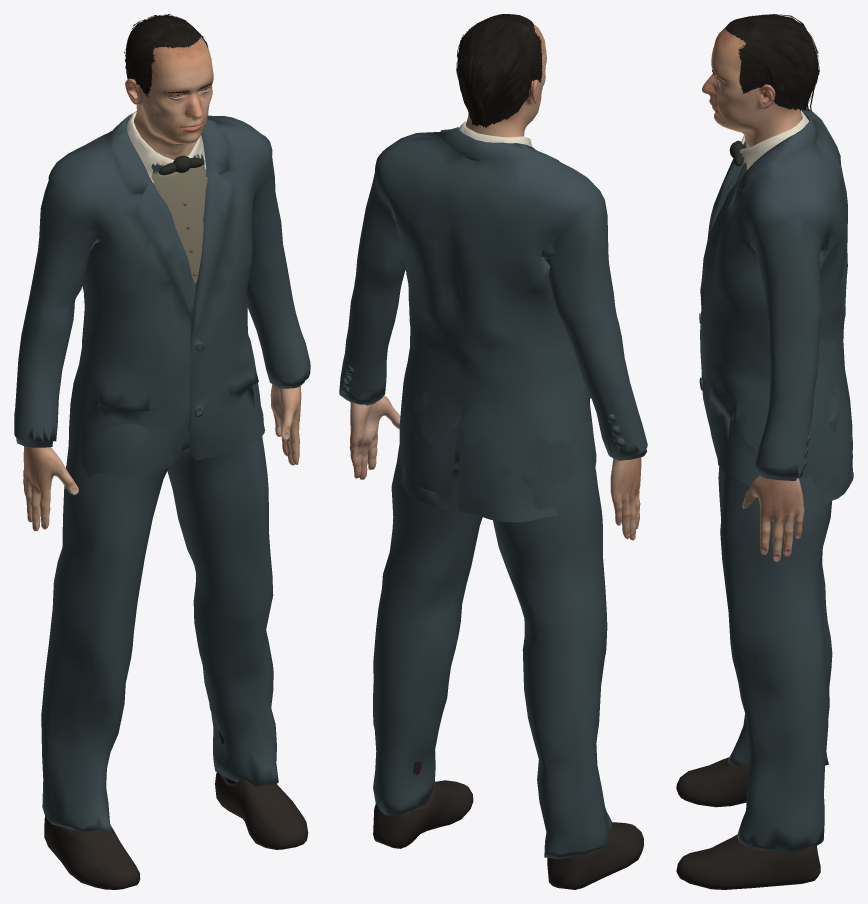
File: household-away-characters.glb
3 views of the same model, side by side, from view 1: azimuth 30°, elevation 25°; view 2: azimuth 150°, elevation 25°; view 3: azimuth 270°, elevation 25° (orthographic).
Parts seen in each view (by area): view 1: away-householder_upper_Coat, away-householder_root_Coat, away-householder_root_Boot, away-householder_head_Skin, away-householder_upper_Skin, away-householder_upper_Waistcoat, away-householder_head_Hair, away-householder_upper_Shirt; view 2: away-householder_upper_Coat, away-householder_root_Coat, away-householder_head_Hair, away-householder_root_Boot, away-householder_upper_Skin, away-householder_head_Skin; view 3: away-householder_upper_Coat, away-householder_root_Coat, away-householder_root_Boot, away-householder_head_Hair, away-householder_head_Skin, away-householder_upper_Skin, away-householder_upper_Shirt.
Boxes of the visible parts, x1,y1,x2,y2 form: away-householder_upper_Coat: (14,113,310,441); away-householder_root_Coat: (16,363,310,833); away-householder_root_Boot: (44,729,308,889); away-householder_head_Skin: (125,37,213,155); away-householder_upper_Skin: (23,141,301,531); away-householder_upper_Waistcoat: (151,154,207,283); away-householder_head_Hair: (124,14,208,97); away-householder_upper_Shirt: (126,111,205,182); away-householder_upper_Coat: (339,127,647,456); away-householder_root_Coat: (339,381,646,859); away-householder_head_Hair: (456,14,542,128); away-householder_root_Boot: (373,761,643,889); away-householder_upper_Skin: (349,395,641,540); away-householder_head_Skin: (457,24,546,137); away-householder_upper_Coat: (699,108,850,476); away-householder_root_Coat: (703,382,853,852); away-householder_root_Boot: (676,757,820,889); away-householder_head_Hair: (725,14,819,111); away-householder_head_Skin: (702,27,801,146); away-householder_upper_Skin: (742,146,804,561); away-householder_upper_Shirt: (739,110,809,169).
Bounding box in the file's own units: 0.6563 × 1.75 × 0.3438.
10 materials, 4 textured.
